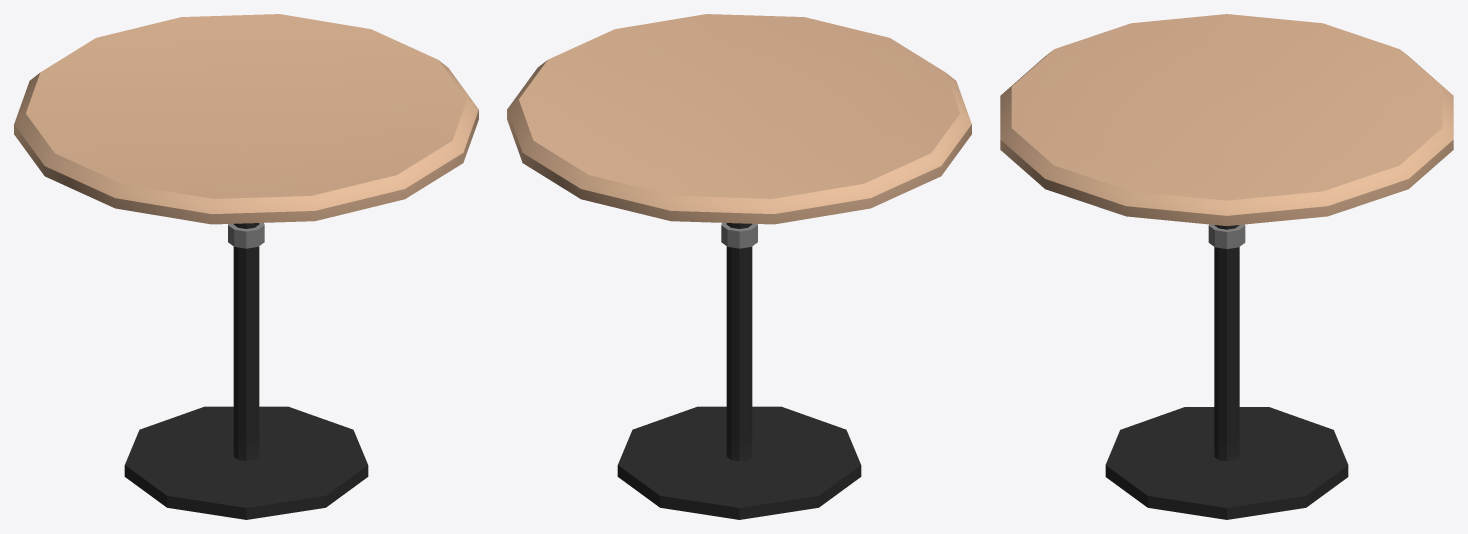
The model's file is SM_Props_Cafe_14.fbx.
The picture shows the model from 3 angles, left to right: view 1: azimuth 30°, elevation 25°; view 2: azimuth 150°, elevation 25°; view 3: azimuth 270°, elevation 25°; orthographic projection.
Visible parts, largest first — view 1: SM_Props_Cafe_14; view 2: SM_Props_Cafe_14; view 3: SM_Props_Cafe_14.
Part boxes in pixels (<box>): SM_Props_Cafe_14: <box>14,14,478,519</box>; SM_Props_Cafe_14: <box>507,14,971,519</box>; SM_Props_Cafe_14: <box>1000,14,1453,519</box>.
Size of the model in its own units: 102 by 87.33 by 99.53.
